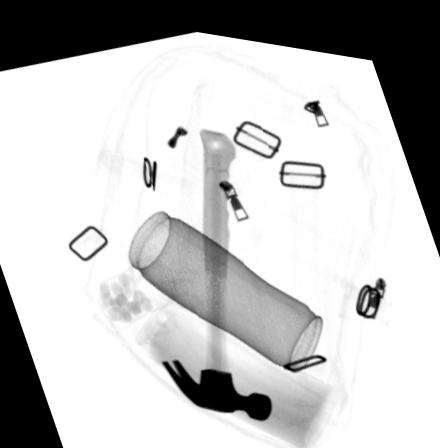Hammer: (159, 118, 274, 411)
